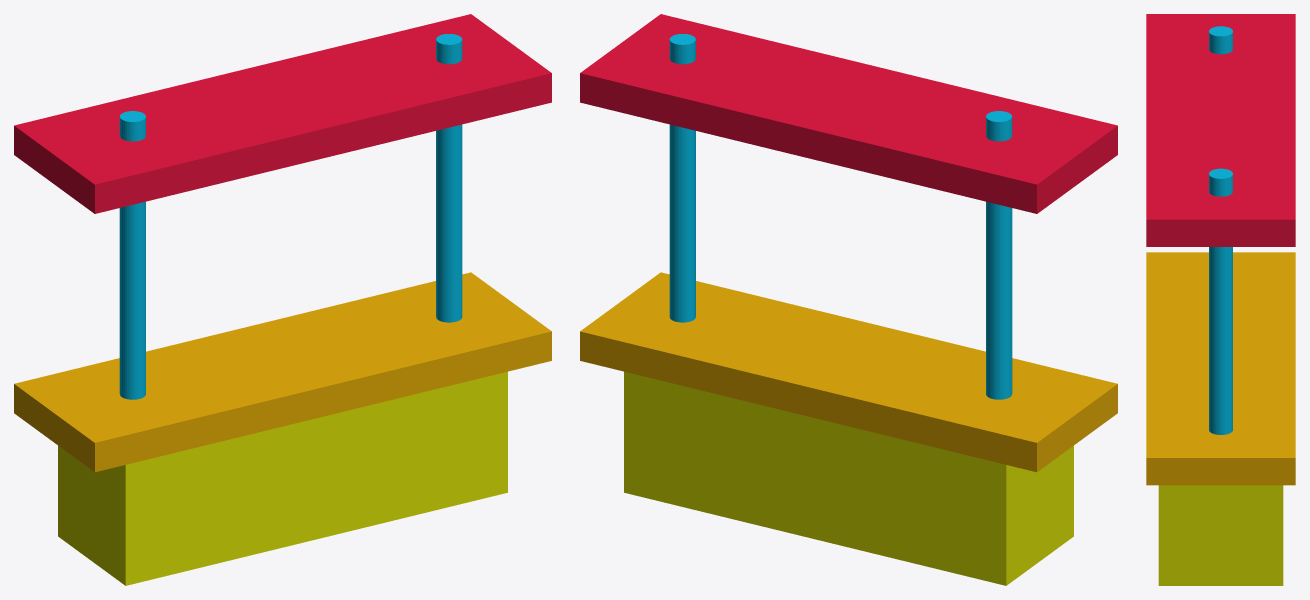
The model's file is tienda.fbx.
The picture shows the model from 3 angles, left to right: view 1: azimuth 30°, elevation 25°; view 2: azimuth 150°, elevation 25°; view 3: azimuth 270°, elevation 25°; orthographic projection. The views are drawn at different scales.
Visible parts, largest first — view 1: Cube; view 2: Cube; view 3: Cube.
Part boxes in pixels (bbox=[...]): Cube: bbox=[14, 14, 551, 585]; Cube: bbox=[580, 14, 1117, 585]; Cube: bbox=[1146, 14, 1295, 585].
Size of the model in its own units: 1.06 by 3.46 by 3.15.
